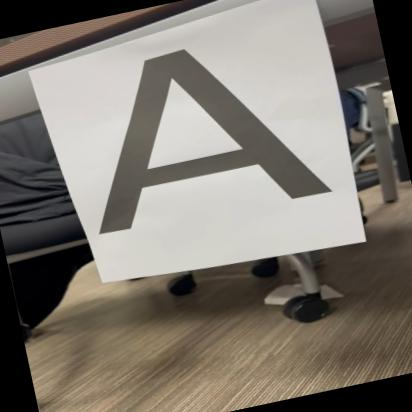seat: (50, 15, 352, 252)
